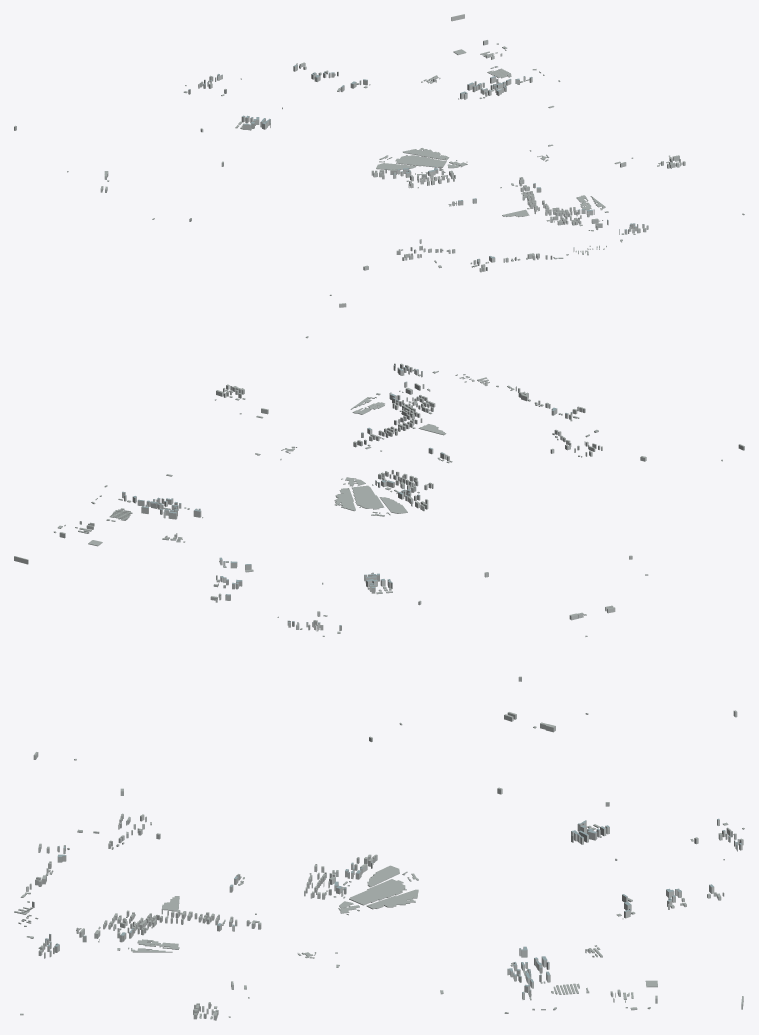
File: far.glb
3 renders of one model, top to bottom at view 1: azimuth 30°, elevation 25°; view 2: azimuth 150°, elevation 25°; view 3: azimuth 270°, elevation 25°, orthographic. The views are drawn at different scales.
Size of the model in its own units: 2088 by 23.5 by 2103.
